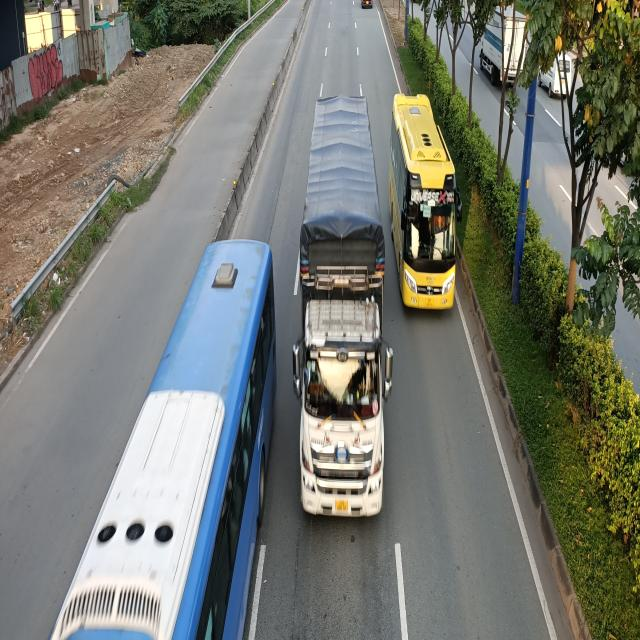car: (360, 0, 374, 8)
coach: (47, 240, 276, 640), (390, 92, 464, 312)
truck: (292, 90, 393, 520)
